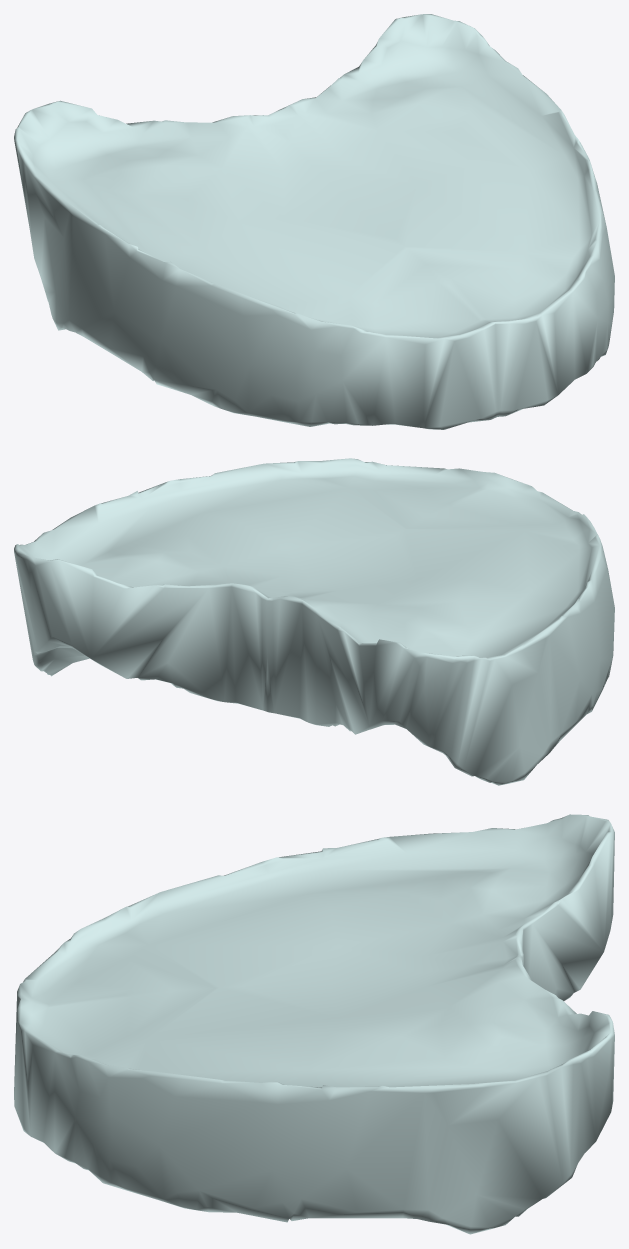
The model's file is Intervertebral_disc_T5-T6_Generated_Mesh_From_X3D.060.glb.
3 renders of one model, top to bottom at view 1: azimuth 30°, elevation 25°; view 2: azimuth 150°, elevation 25°; view 3: azimuth 270°, elevation 25°, orthographic. The views are drawn at different scales.
Visible parts, largest first — view 1: Intervertebral_disc_T5-T6_Generated_Mesh_From_X3D.060; view 2: Intervertebral_disc_T5-T6_Generated_Mesh_From_X3D.060; view 3: Intervertebral_disc_T5-T6_Generated_Mesh_From_X3D.060.
Boxes of the visible parts, x1,y1,x2,y2 form: Intervertebral_disc_T5-T6_Generated_Mesh_From_X3D.060: [14, 14, 614, 429]; Intervertebral_disc_T5-T6_Generated_Mesh_From_X3D.060: [14, 458, 614, 785]; Intervertebral_disc_T5-T6_Generated_Mesh_From_X3D.060: [14, 814, 614, 1234].
Bounding box in the file's own units: 0.0321 × 0.0107 × 0.0315.
